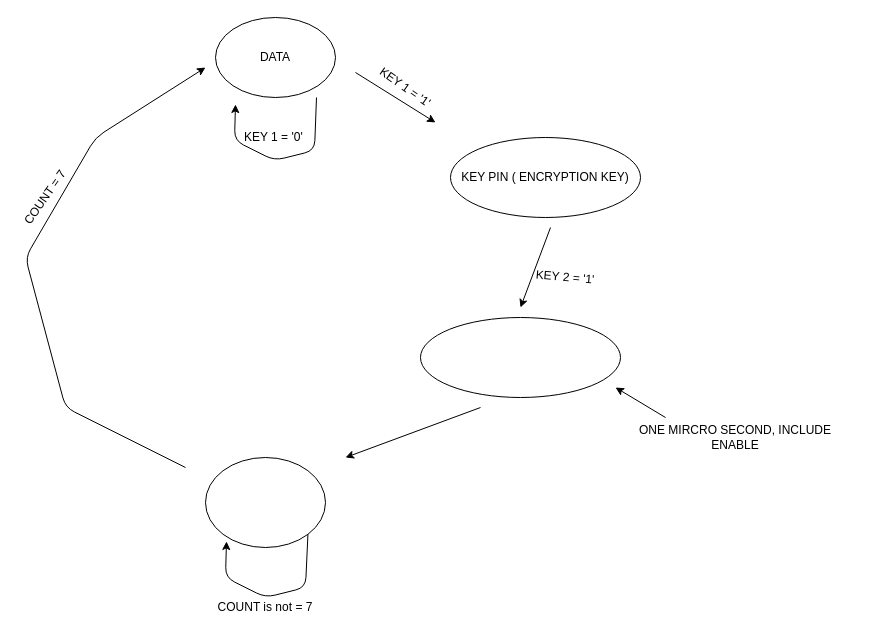
Image size: 873x635. Some labels were removed from this diagram. The shapes that lost their labels are listed below. From the top down, each one's centre as x and y in pixels, then its label:
(520,357): ECRYPT + LOAD + START
(265,502): TRANSMIT
